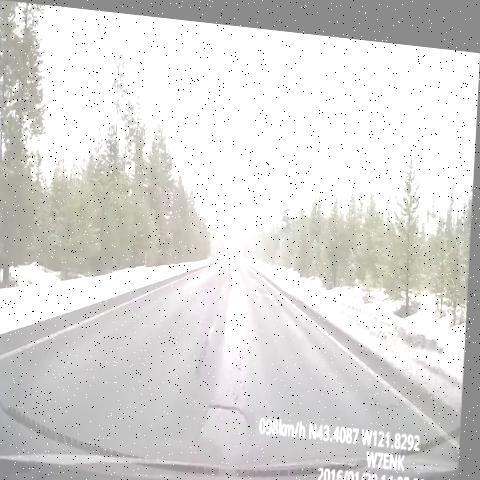pothole: (204, 374, 258, 459)
